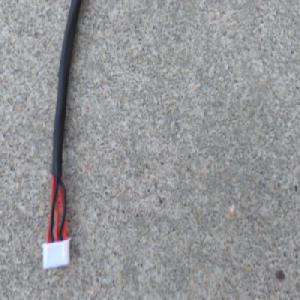Wire: (40, 0, 85, 272)
